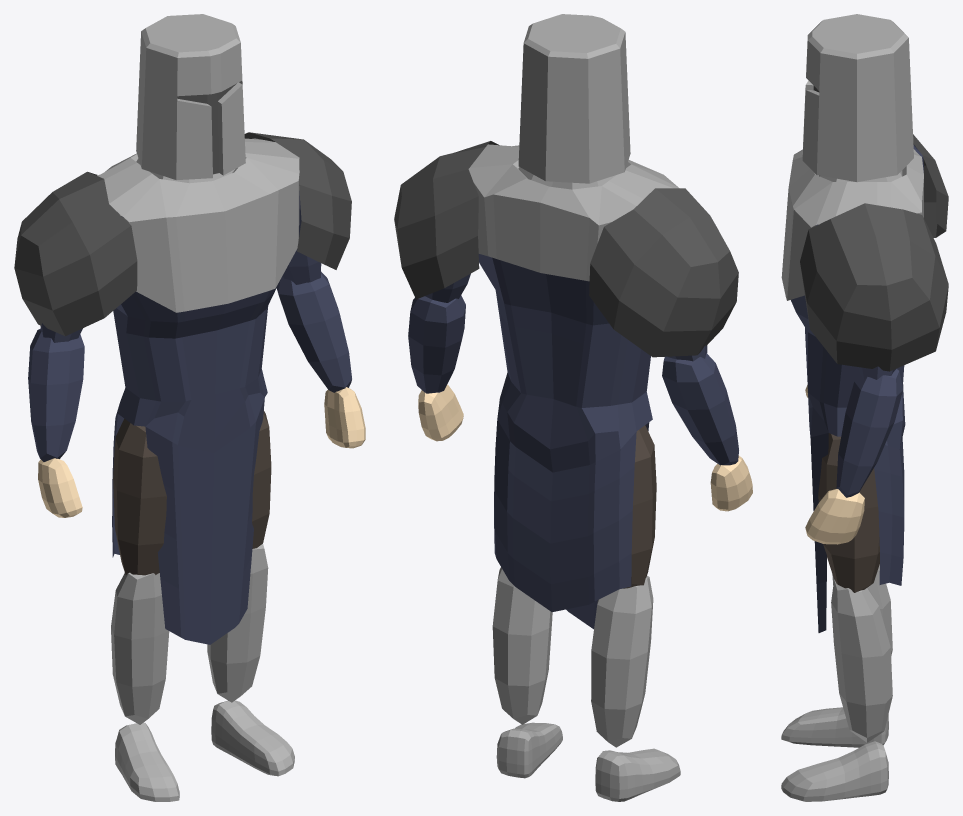
The model's file is Guard.fbx.
3 renders of one model, left to right at view 1: azimuth 30°, elevation 25°; view 2: azimuth 150°, elevation 25°; view 3: azimuth 270°, elevation 25°, orthographic. The views are drawn at different scales.
Parts seen in each view (by area): view 1: Cube, Cube.002, Cube.003, Circle, Cube.005, Cube.004; view 2: Cube, Cube.002, Cube.003, Circle, Cube.005, Cube.004; view 3: Cube.002, Cube, Circle, Cube.003, Cube.005, Cube.004.
Boxes of the visible parts, x1,y1,x2,y2 form: Cube: (97, 138, 299, 644); Cube.002: (14, 132, 351, 461); Cube.003: (111, 410, 271, 724); Circle: (136, 14, 245, 180); Cube.005: (115, 700, 294, 801); Cube.004: (38, 387, 365, 517); Cube: (468, 144, 679, 629); Cube.002: (394, 141, 738, 465); Cube.003: (492, 425, 656, 747); Circle: (518, 14, 630, 183); Cube.005: (496, 722, 680, 801); Cube.004: (418, 384, 752, 511); Cube.002: (800, 134, 948, 497); Cube: (781, 149, 923, 632); Circle: (802, 14, 913, 182); Cube.003: (818, 433, 892, 742); Cube.005: (781, 707, 888, 801); Cube.004: (805, 385, 864, 544).
Bounding box in the file's own units: 512 × 1118 × 232.
